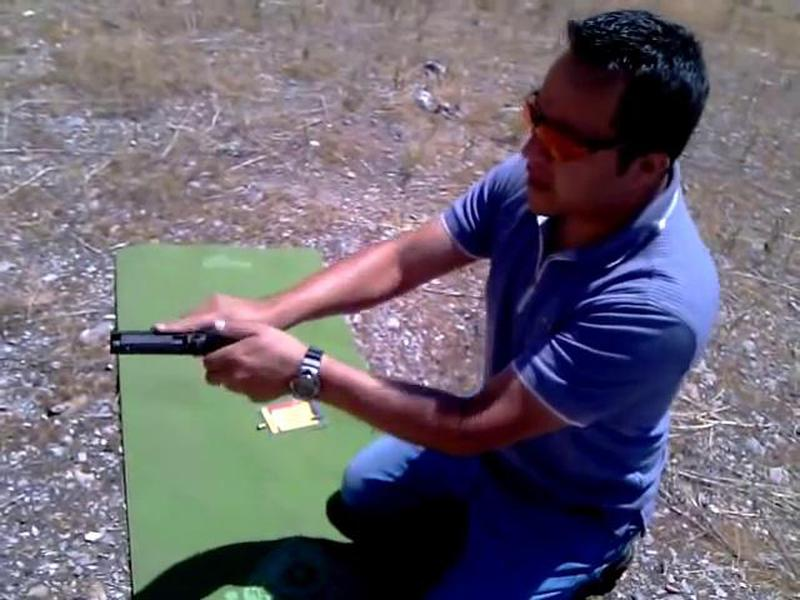Pistola: (104, 300, 251, 396)
